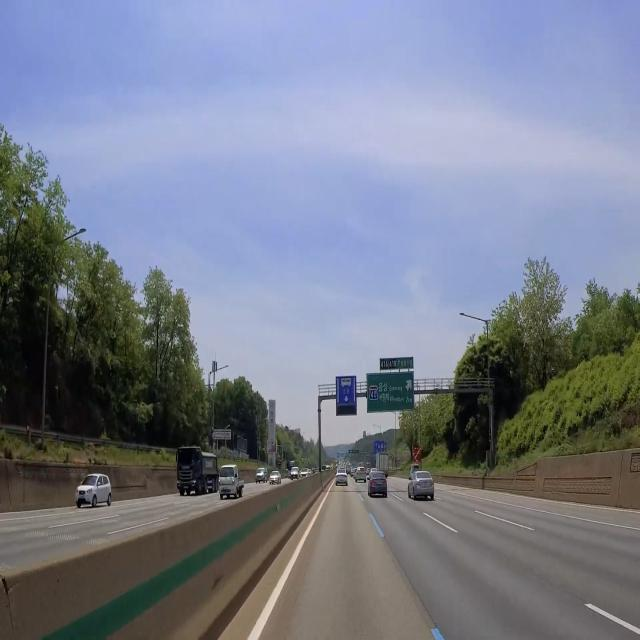car: (76, 493, 87, 502), (422, 482, 431, 490), (376, 481, 383, 486), (182, 486, 190, 490), (338, 479, 345, 483), (223, 486, 229, 490)
